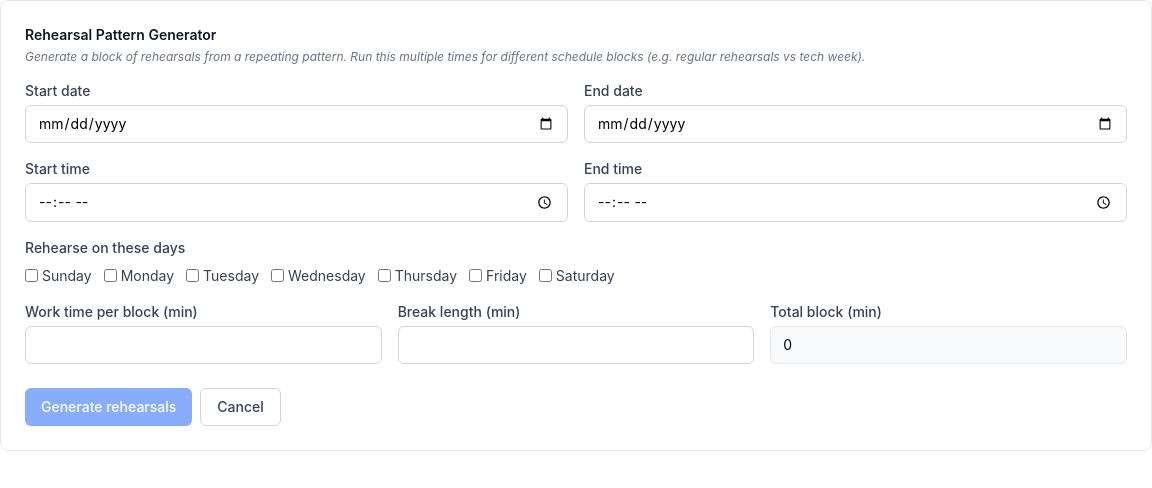
Scenario: RehearsalPatternCreator › shows an error when end time is manually set before start time
The image size is (1152, 488).
Type "19:00" into the time field below "Start time".
click(296, 202); type("19:00")  # box left=25, top=183, right=568, bottom=222
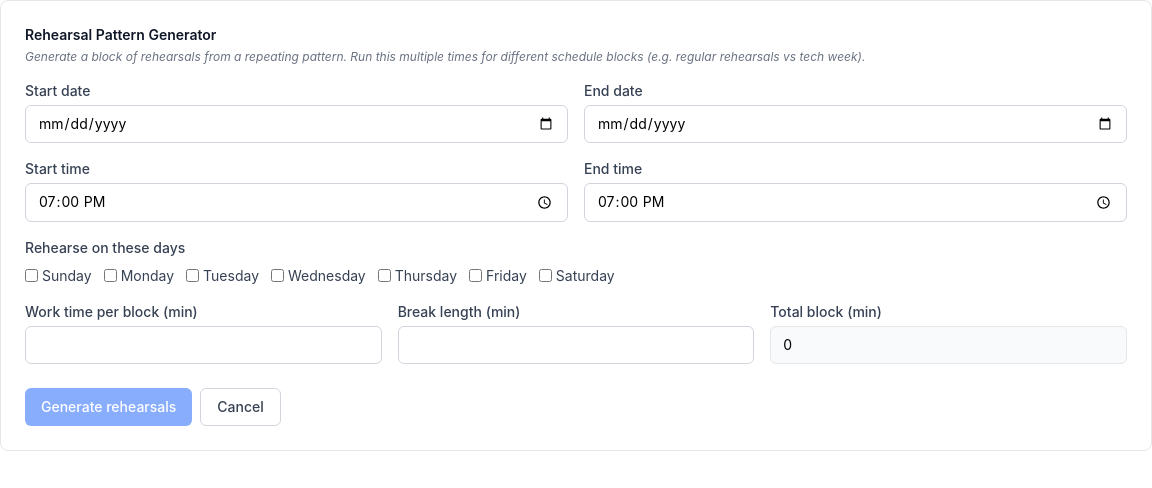
Replace the text in the time field below "End time" with "18:00" at (856, 202), box left=584, top=183, right=1127, bottom=222
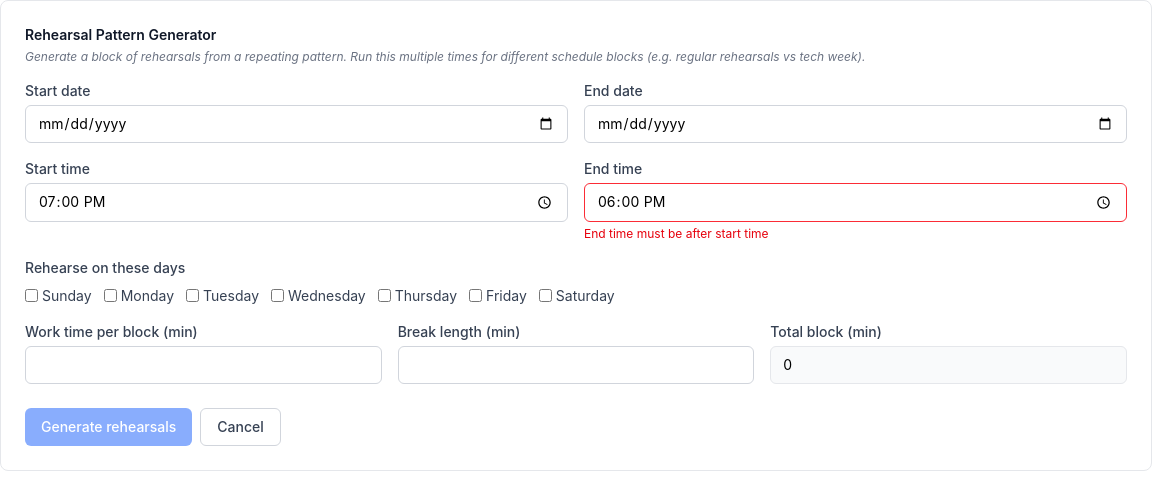
Expected: the text "End time must be after start time" is shown, left=584, top=226, right=769, bottom=241
